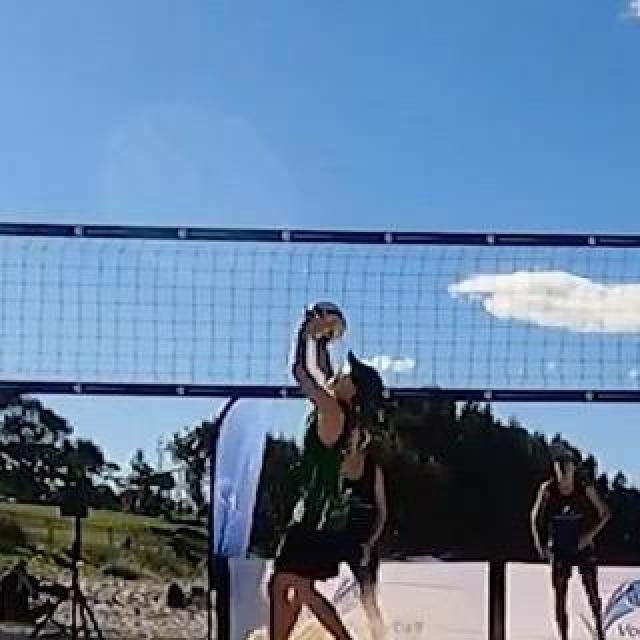volleyball: (305, 299, 347, 343)
